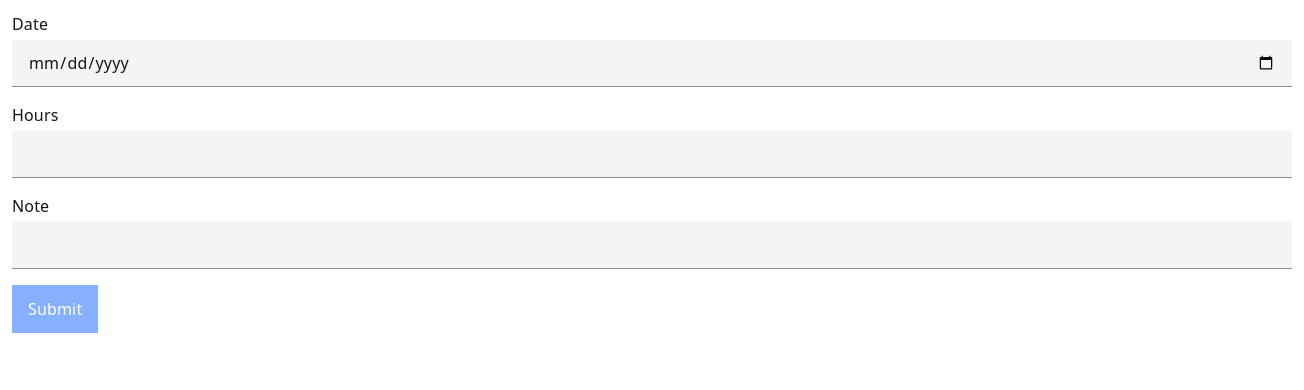
Test case: OvertimeRequestForm › previews the minutes to be requested from the hours entered
Check: the text "overtime requested" is not shown
Type "2" into the number field labelled "Hours" at coordinates (652, 154), box [12,131,1292,178]
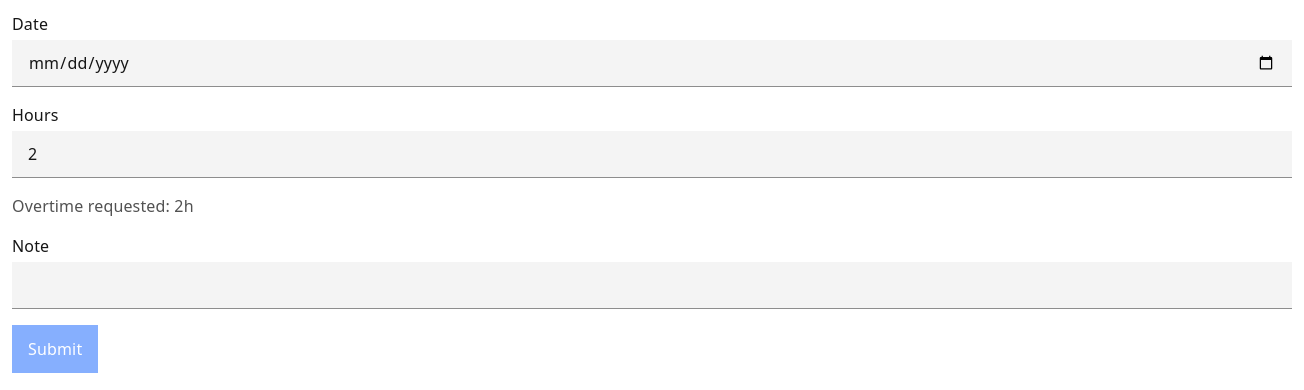
Check: the text "Overtime requested: 2h" is shown, box [12,195,194,217]
